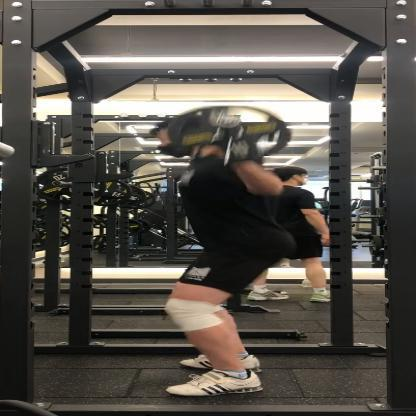barbell: (167, 104, 293, 167)
